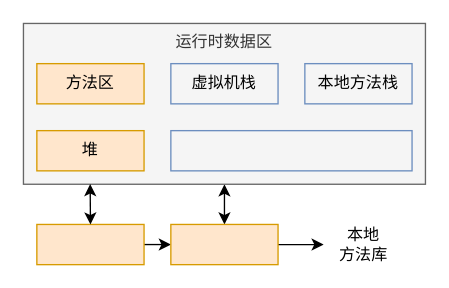
Some shapes in this 449 by 288 pixel diagram are drawn without their labels. Each missing label, with the centre of its shape:
"执行引擎" belongs at point 90,244.
"本地库接口" belongs at point 224,244.
"程序计数器" belongs at point 291,150.
